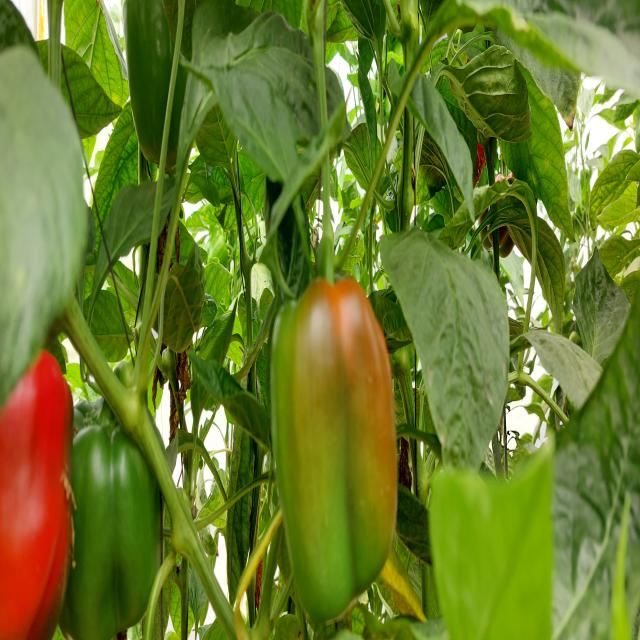BrownishRed--Can-be-Harvested: (263, 276, 413, 614)
Green--Not-ready-to-harvest: (80, 396, 164, 640)
Red-Ready-to-Harvest: (0, 342, 74, 640)
